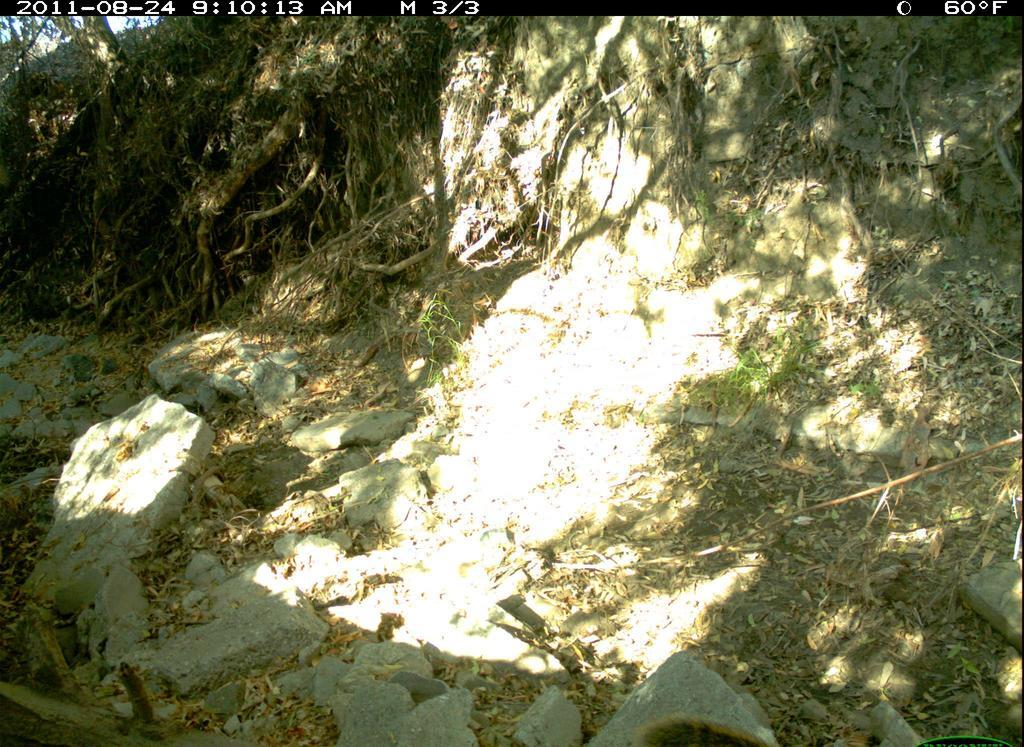squirrel: (633, 703, 803, 747)
